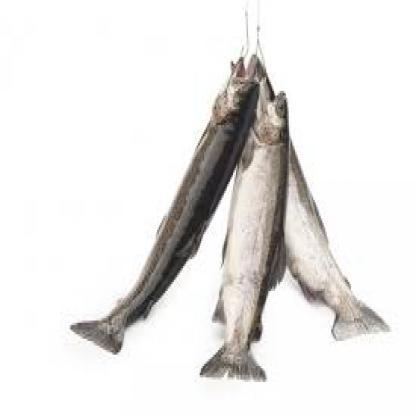fish: (70, 48, 259, 354), (198, 66, 289, 383)
